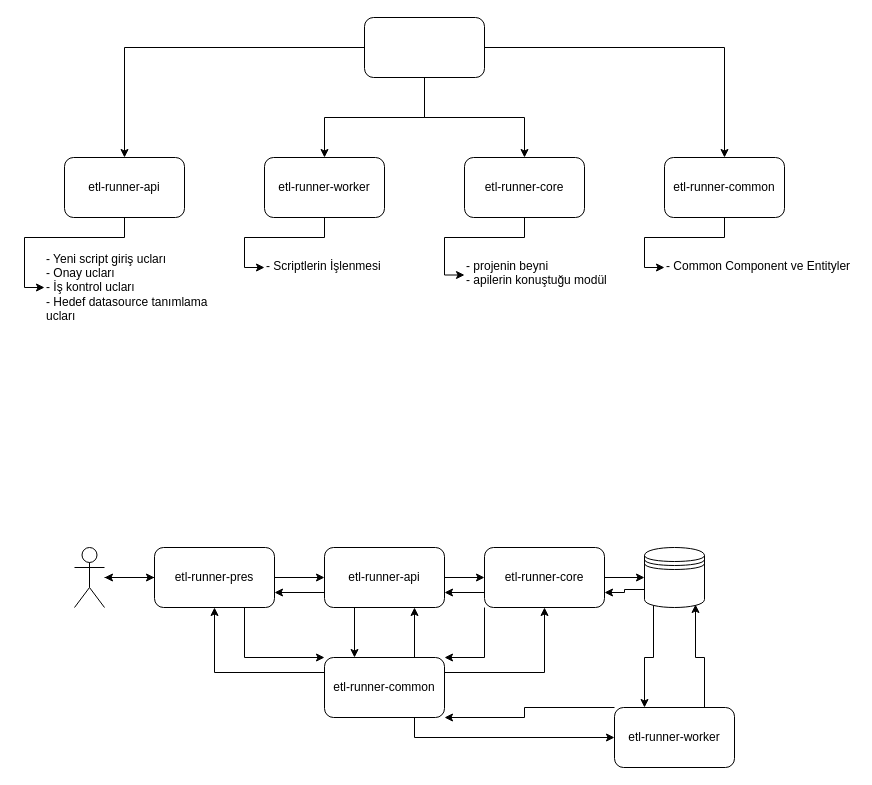
The diagram is 872 pixels wide and 785 high, and some of its shapes have lost their labels. Each missing label, with the centre of its shape:
Actor: pixel 89 577
etl-runner-parent: pixel 424 47
Postgre: pixel 674 577
